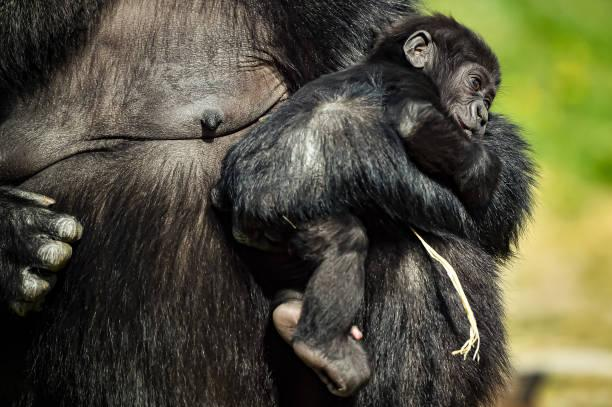gorille_Autres: (227, 0, 543, 371)
